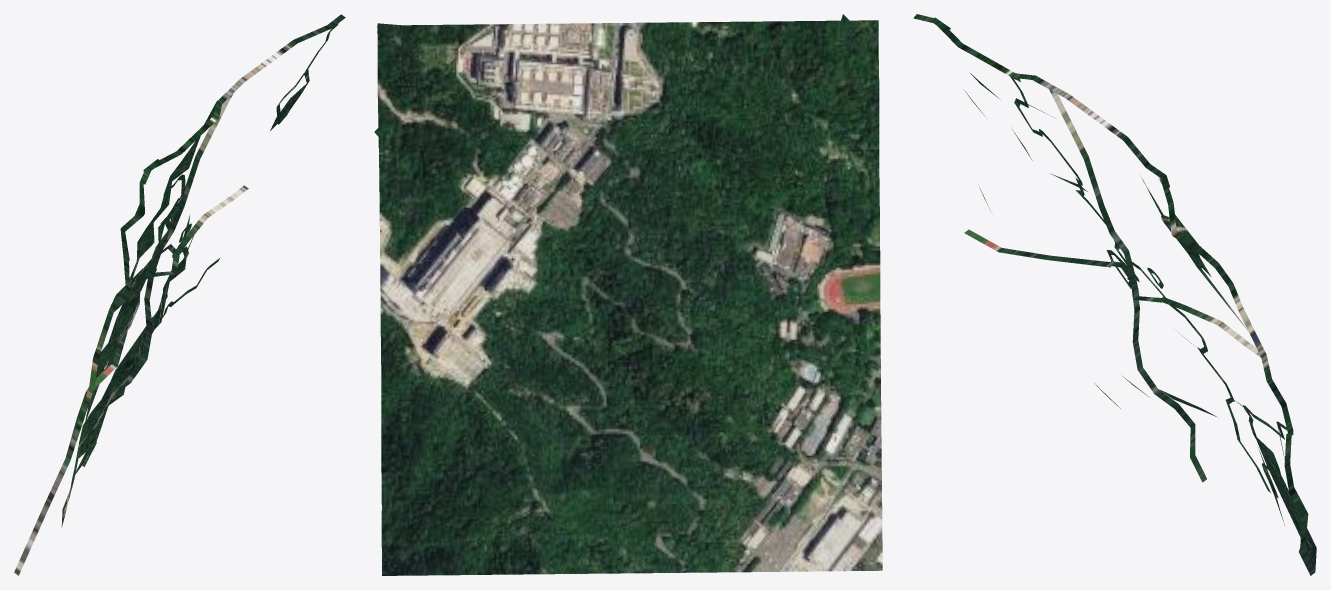
3 renders of one model, left to right at view 1: azimuth 30°, elevation 25°; view 2: azimuth 150°, elevation 25°; view 3: azimuth 270°, elevation 25°, orthographic. The views are drawn at different scales.
Bounding box in the file's own units: 1132 × 1204 × 970.
1 material, 1 textured.
